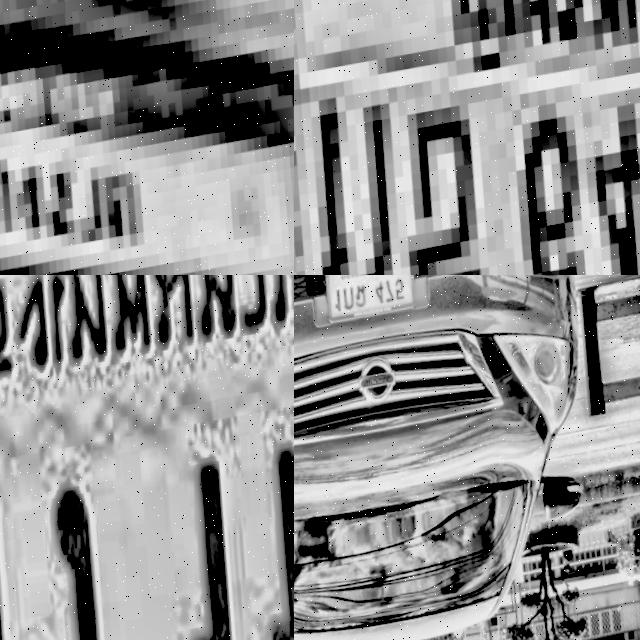license-plate: (0, 275, 294, 640), (294, 0, 640, 275), (0, 0, 294, 275), (316, 275, 426, 331)
